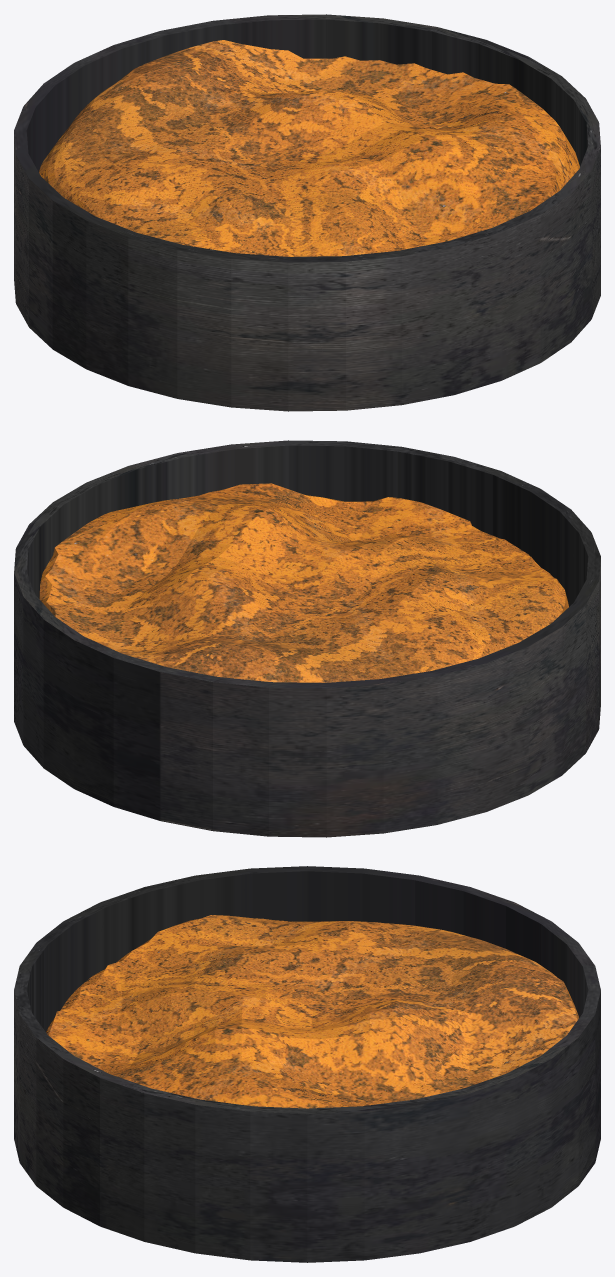
Rendered from Grasa.fbx.
3 views of the same model, one above another, from view 1: azimuth 30°, elevation 25°; view 2: azimuth 150°, elevation 25°; view 3: azimuth 270°, elevation 25° (orthographic).
Visible parts, largest first — view 1: Cylinder, Cylinder.001; view 2: Cylinder, Cylinder.001; view 3: Cylinder, Cylinder.001.
Boxes of the visible parts, x1=… form: Cylinder: x1=14, y1=14, x2=600, y2=411; Cylinder.001: x1=39, y1=40, x2=579, y2=256; Cylinder: x1=14, y1=440, x2=600, y2=837; Cylinder.001: x1=39, y1=483, x2=568, y2=682; Cylinder: x1=14, y1=866, x2=600, y2=1262; Cylinder.001: x1=46, y1=915, x2=578, y2=1108.
Bounding box in the file's own units: 200 × 57.42 × 200.
Materials: 2 (2 with a texture image).
